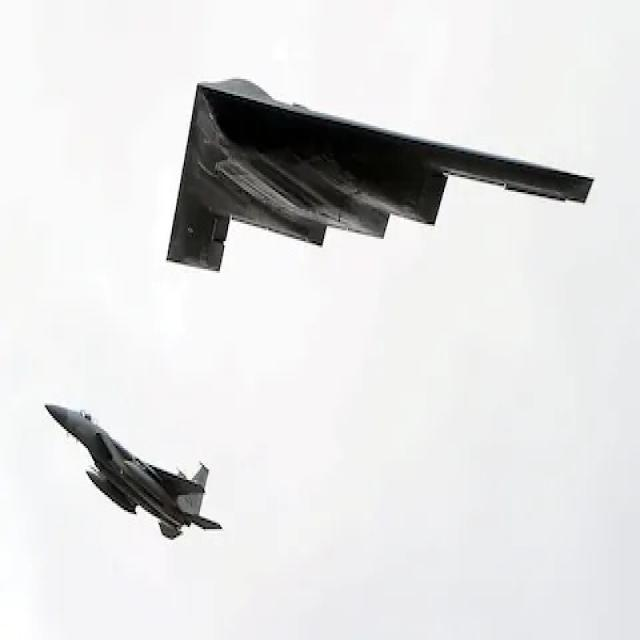MIL_Plane: (164, 139, 593, 208), (44, 403, 224, 542)
